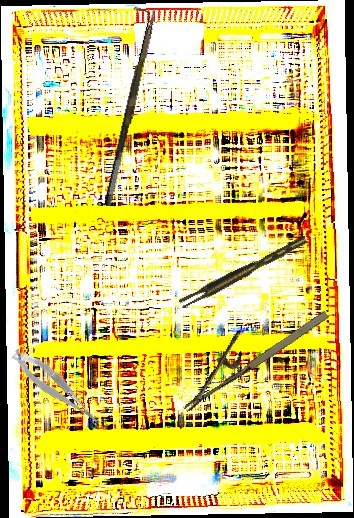Hook Surgical: (88, 5, 159, 208)
Micro Scissor: (7, 340, 105, 437)
Needle Holder: (164, 286, 332, 413)
Pusher: (116, 9, 157, 153)
Tissue Forceps: (176, 235, 311, 310)
